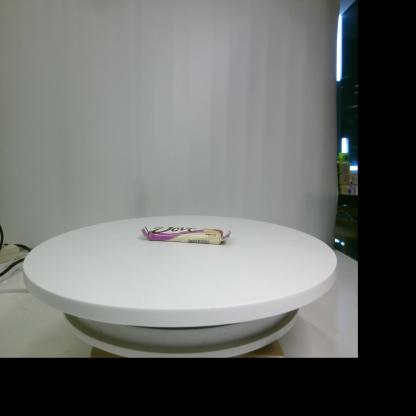Chocolate: (140, 223, 232, 245)
